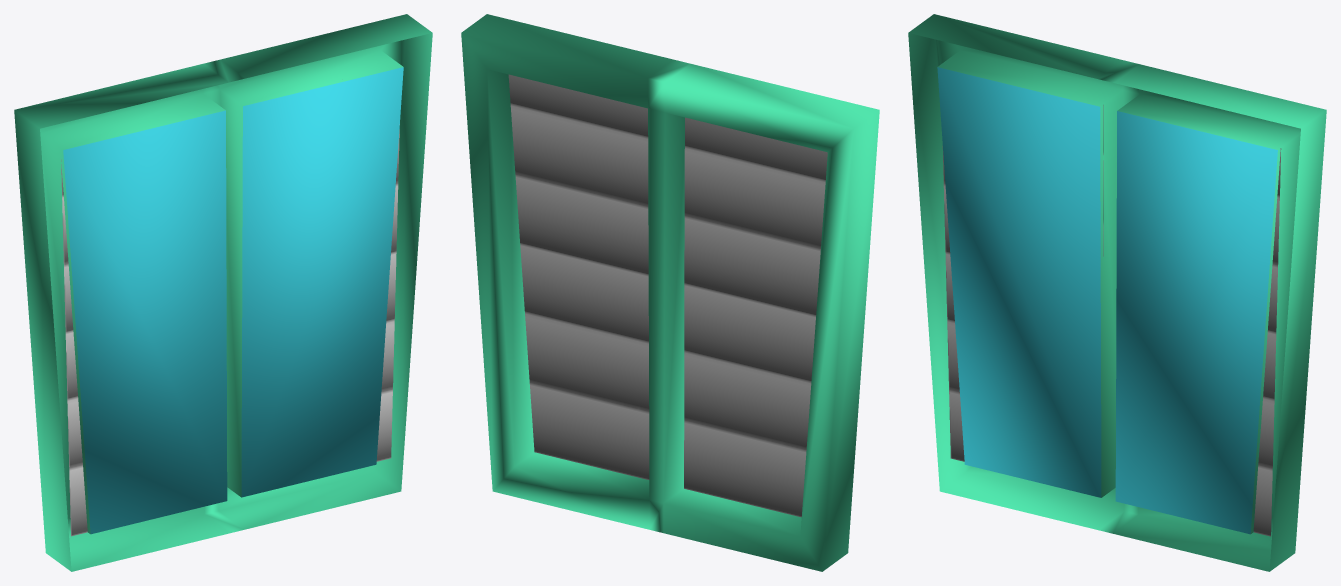
The model's file is Window.fbx.
3 renders of one model, left to right at view 1: azimuth 30°, elevation 25°; view 2: azimuth 150°, elevation 25°; view 3: azimuth 330°, elevation 25°, orthographic.
Visible parts, largest first — view 1: 001.Window, 001.Blinds; view 2: 001.Blinds, 001.Window; view 3: 001.Window, 001.Blinds.
Part boxes in pixels (<box>): 001.Window: <box>14,14,432,571</box>; 001.Blinds: <box>61,124,399,536</box>; 001.Blinds: <box>508,74,827,517</box>; 001.Window: <box>461,14,879,571</box>; 001.Window: <box>908,14,1326,571</box>; 001.Blinds: <box>942,105,1281,536</box>.
Bounding box in the file's own units: 128 × 140 × 14.49.
